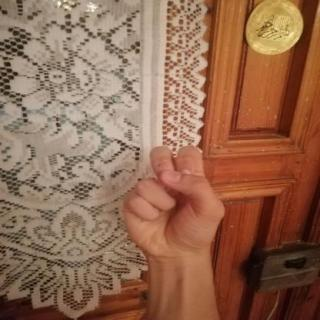QAAF: (106, 134, 240, 268)
